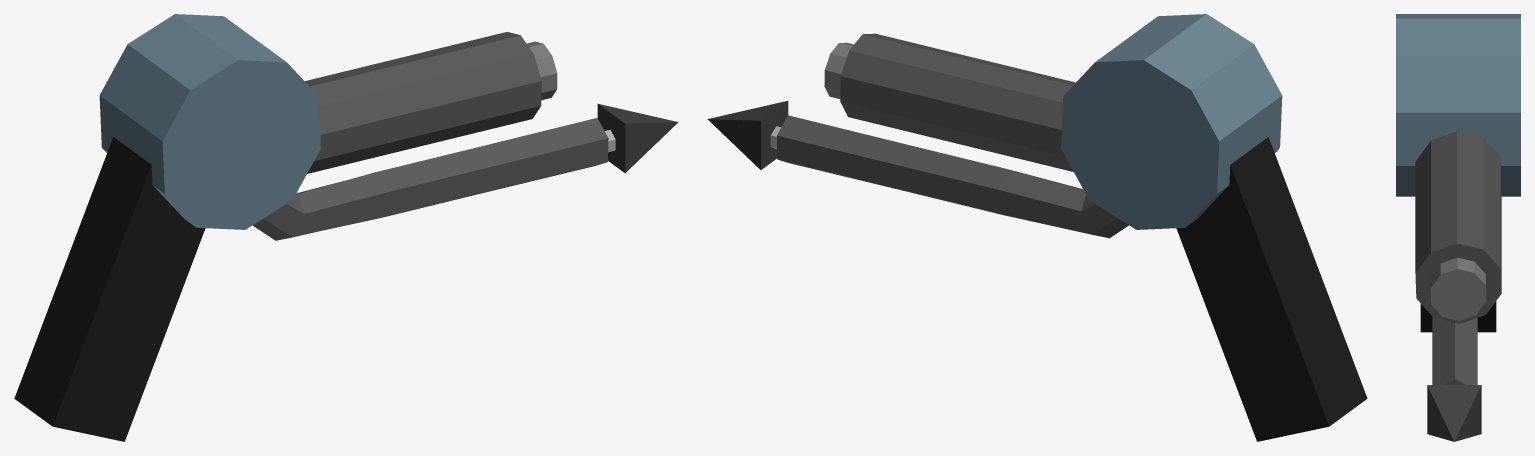
File: improvedGrapplingGun.fbx
3 views of the same model, side by side, from view 1: azimuth 30°, elevation 25°; view 2: azimuth 150°, elevation 25°; view 3: azimuth 270°, elevation 25° (orthographic).
Parts seen in each view (by area): view 1: Cylinder, Cube, Cylinder.001, Torus, Cone, Cylinder.003; view 2: Cylinder, Cube, Cylinder.001, Torus, Cone, Cylinder.003; view 3: Cylinder, Cylinder.001, Torus, Cone, Cylinder.003, Cube.
Part boxes in pixels (x1,y1,x2,y2): Cylinder: (99,14,320,229); Cube: (14,137,205,441); Cylinder.001: (305,32,541,173); Torus: (253,118,608,240); Cone: (597,104,678,173); Cylinder.003: (527,41,557,100); Cylinder: (1061,14,1282,229); Cube: (1176,137,1367,441); Cylinder.001: (840,33,1075,171); Torus: (777,115,1128,238); Cone: (707,100,788,169); Cylinder.003: (824,42,853,98); Cylinder: (1396,14,1520,196); Cylinder.001: (1415,131,1501,323); Torus: (1432,317,1477,384); Cone: (1427,385,1481,441); Cylinder.003: (1430,257,1486,320); Cube: (1420,301,1496,332).
Bounding box in the file's own units: 264 × 144 × 44.85.
